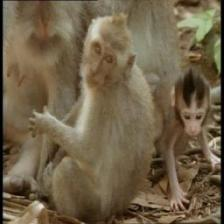monkey: (82, 9, 138, 95), (167, 54, 214, 153), (26, 7, 68, 64)
